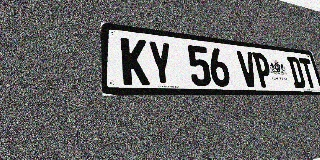5: (187, 45, 213, 86)
6: (207, 47, 231, 87)
D: (287, 56, 306, 88)
K: (120, 37, 150, 85)
P: (252, 52, 274, 87)
T: (298, 58, 317, 88)
V: (236, 50, 259, 87)
Y: (147, 40, 175, 86)
